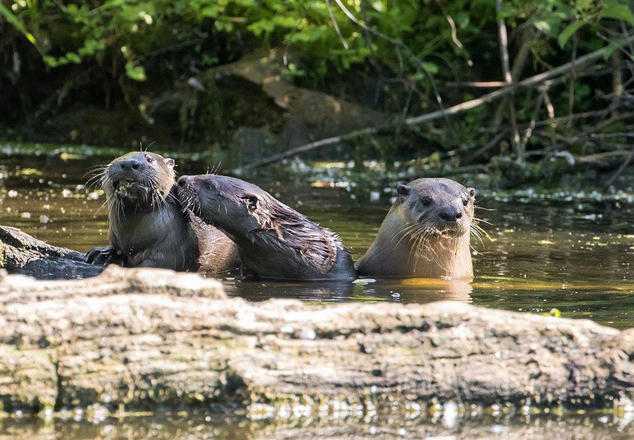otter: (170, 161, 352, 291), (363, 162, 501, 305), (81, 126, 174, 274)
